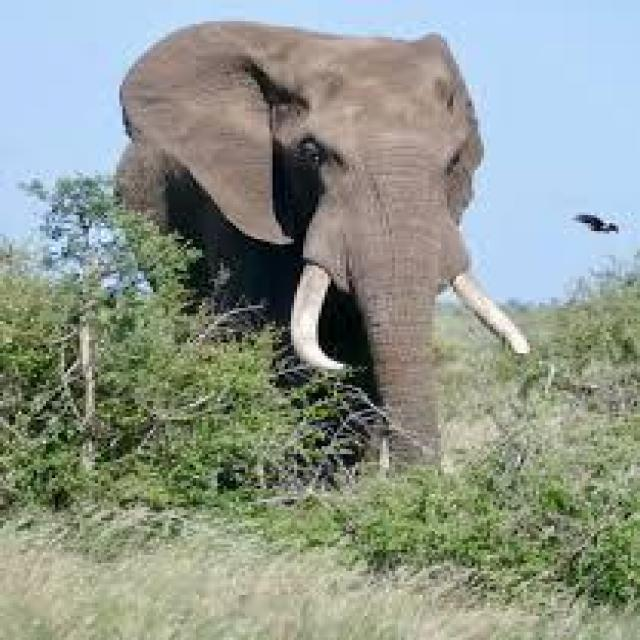Elephant: (113, 18, 527, 464)
